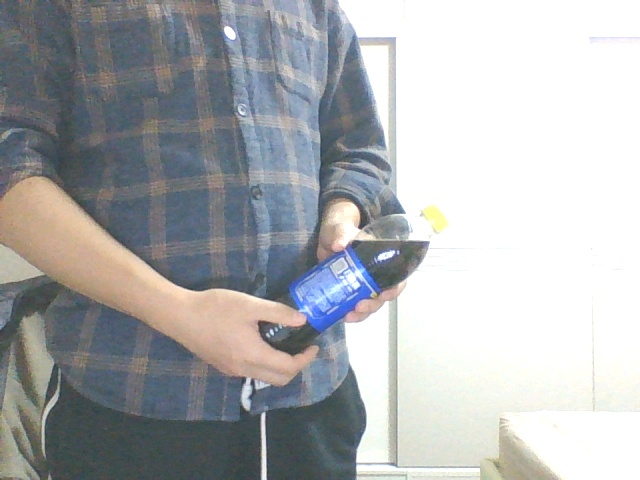Cola: (259, 205, 449, 352)
